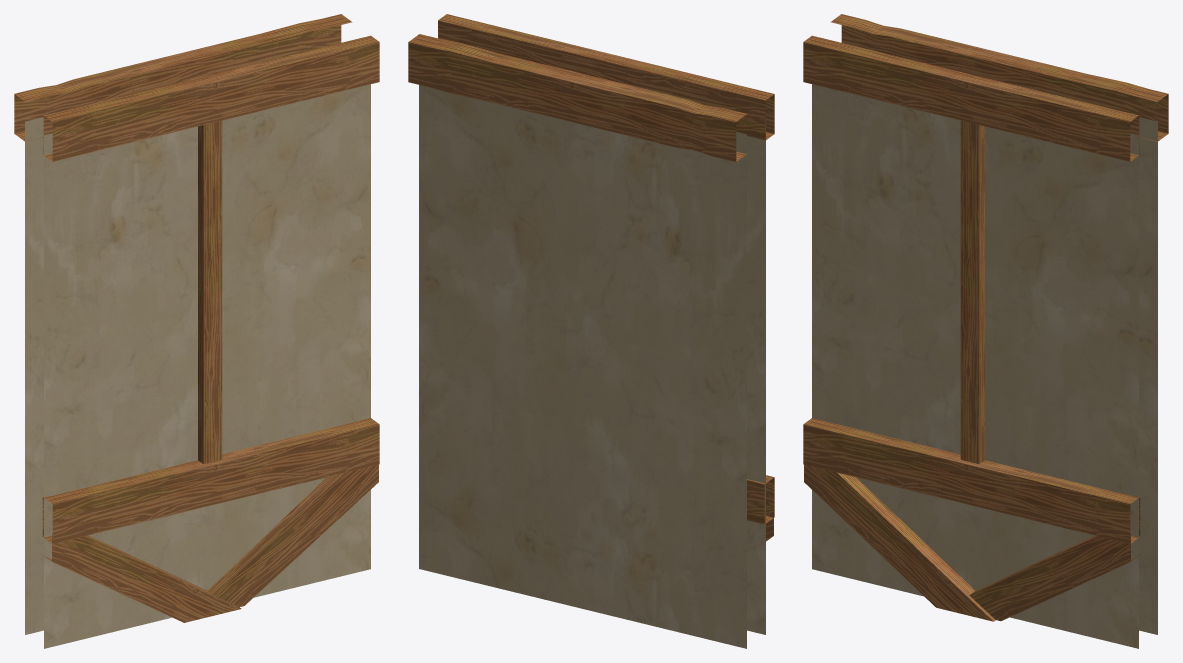
The model's file is Wall_Plaster_Straight.glb.
3 views of the same model, side by side, from view 1: azimuth 30°, elevation 25°; view 2: azimuth 150°, elevation 25°; view 3: azimuth 330°, elevation 25° (orthographic).
Parts seen in each view (by area): view 1: Wall_Plaster_Straight; view 2: Wall_Plaster_Straight; view 3: Wall_Plaster_Straight.
Boxes of the visible parts, x1=… form: Wall_Plaster_Straight: x1=14, y1=14, x2=379, y2=648; Wall_Plaster_Straight: x1=408, y1=14, x2=774, y2=648; Wall_Plaster_Straight: x1=803, y1=14, x2=1168, y2=648.
Bounding box in the file's own units: 2 × 3.12 × 0.4065.
Materials: 2 (2 with a texture image).
